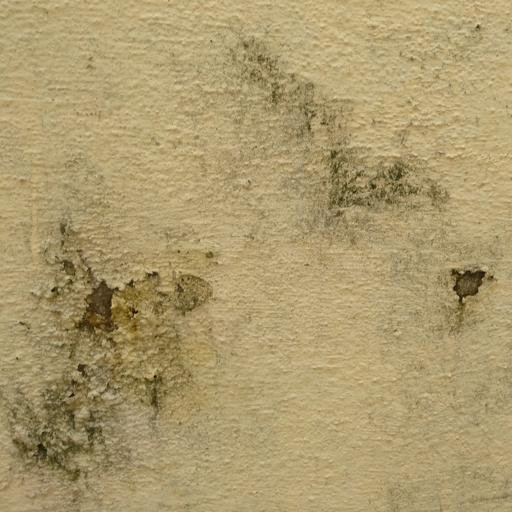algae: (6, 182, 240, 512)
